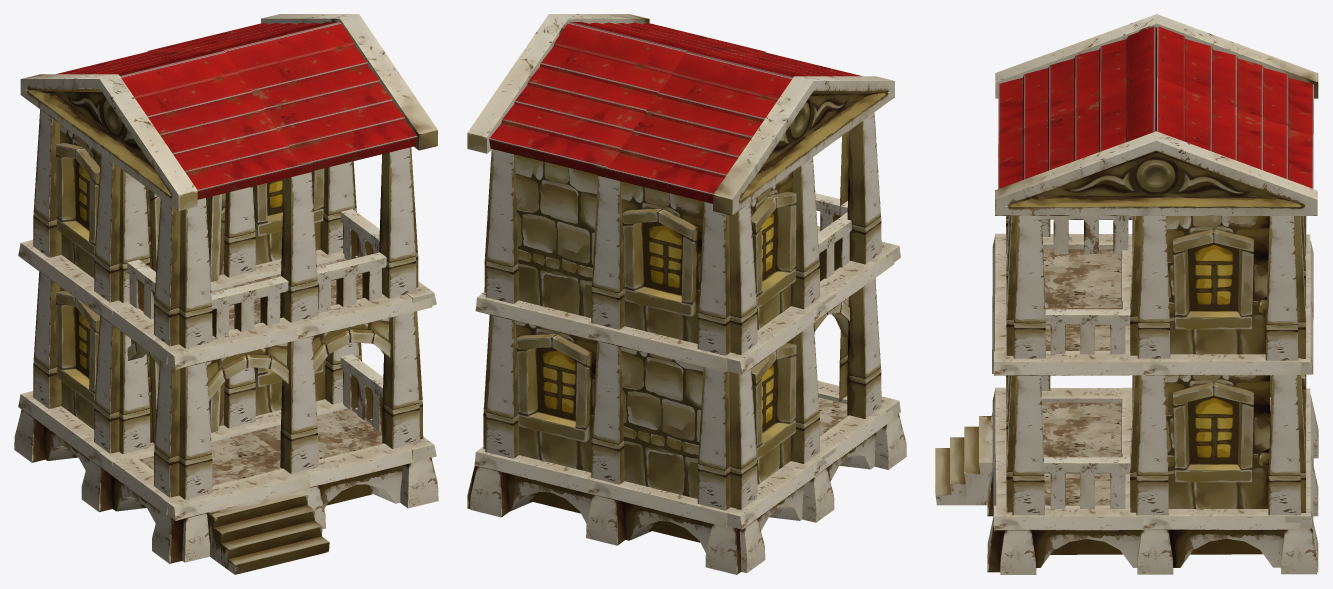
The model's file is Rome_Village_Buildings_05.FBX.
The picture shows the model from 3 angles, left to right: view 1: azimuth 30°, elevation 25°; view 2: azimuth 150°, elevation 25°; view 3: azimuth 270°, elevation 25°; orthographic projection. The views are drawn at different scales.
Visible parts, largest first — view 1: Rome_Village_Buildings_05; view 2: Rome_Village_Buildings_05; view 3: Rome_Village_Buildings_05.
Boxes of the visible parts, box(x1,y1,x2,y2) form: Rome_Village_Buildings_05: box(14, 14, 438, 574); Rome_Village_Buildings_05: box(467, 14, 906, 574); Rome_Village_Buildings_05: box(935, 14, 1318, 574).
Size of the model in its own units: 565 by 845 by 677.
